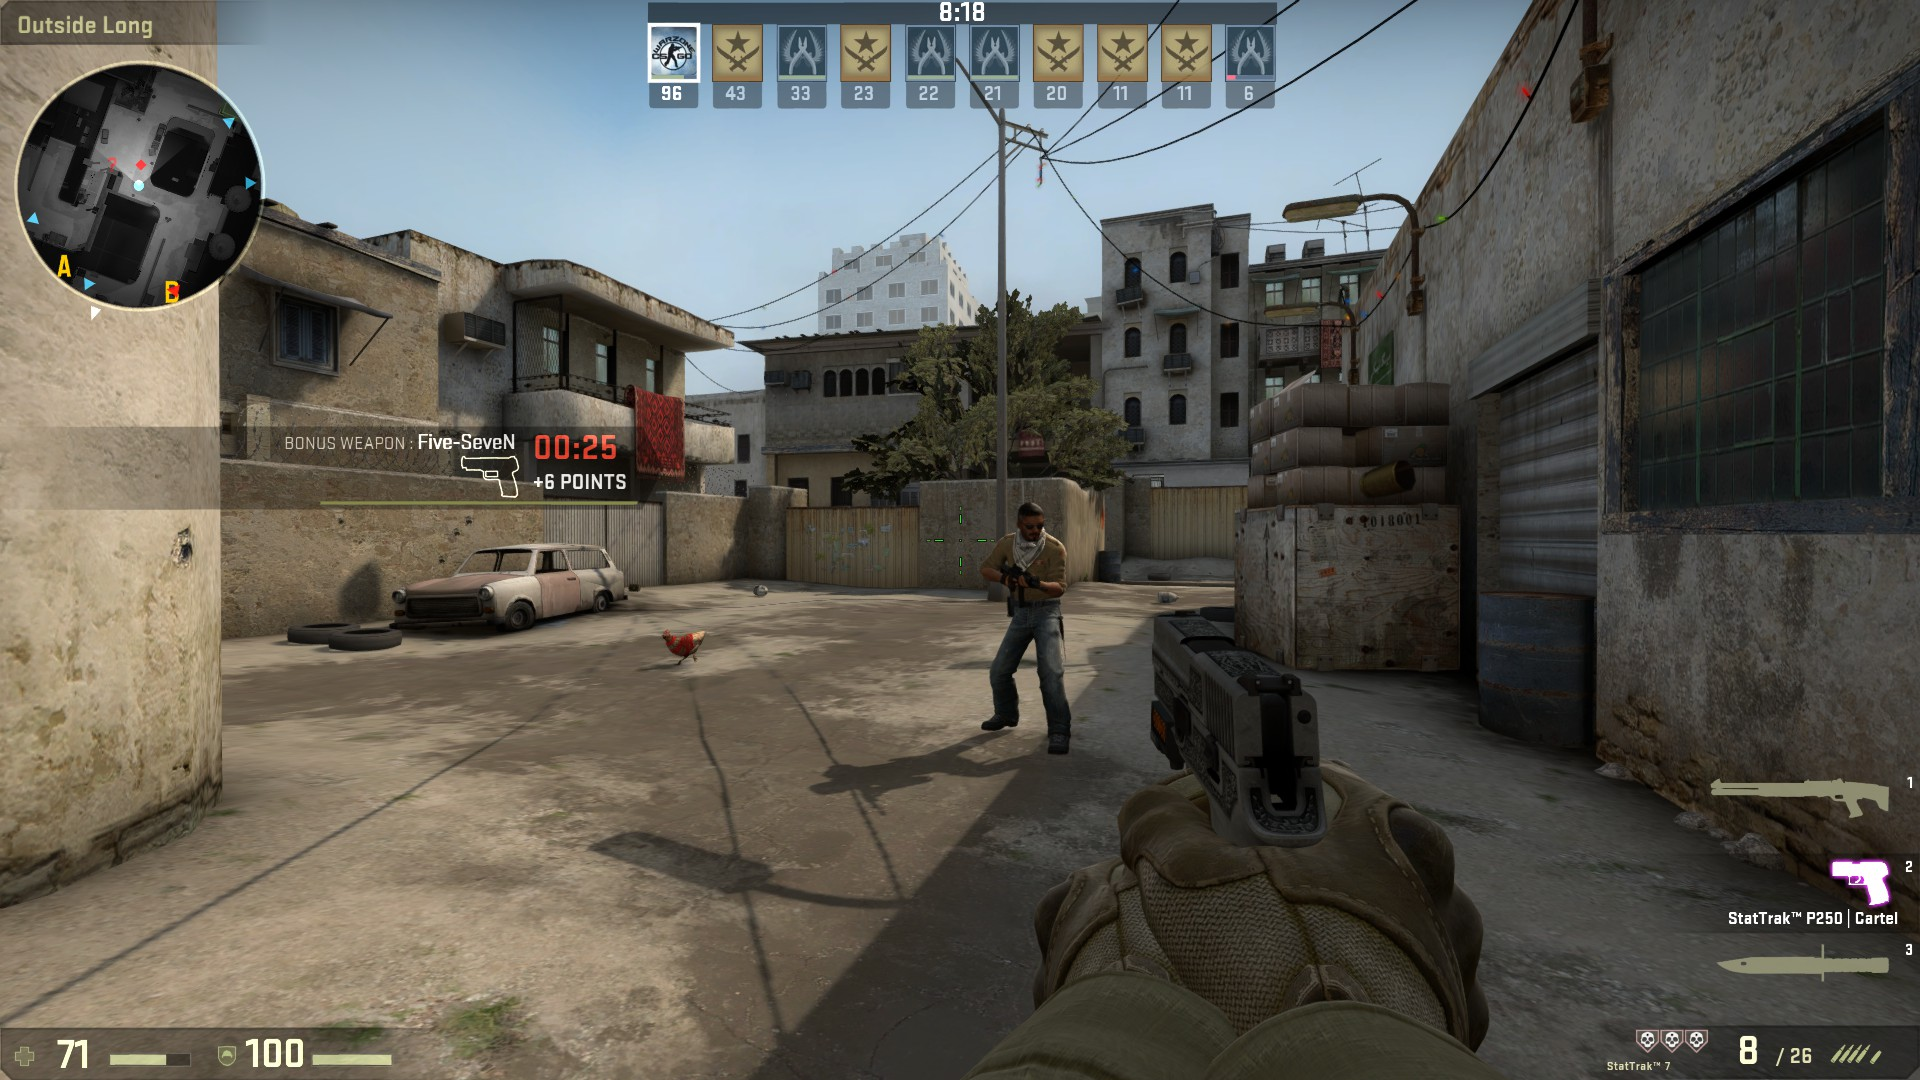t: (981, 497, 1069, 752)
th: (1013, 501, 1044, 547)
